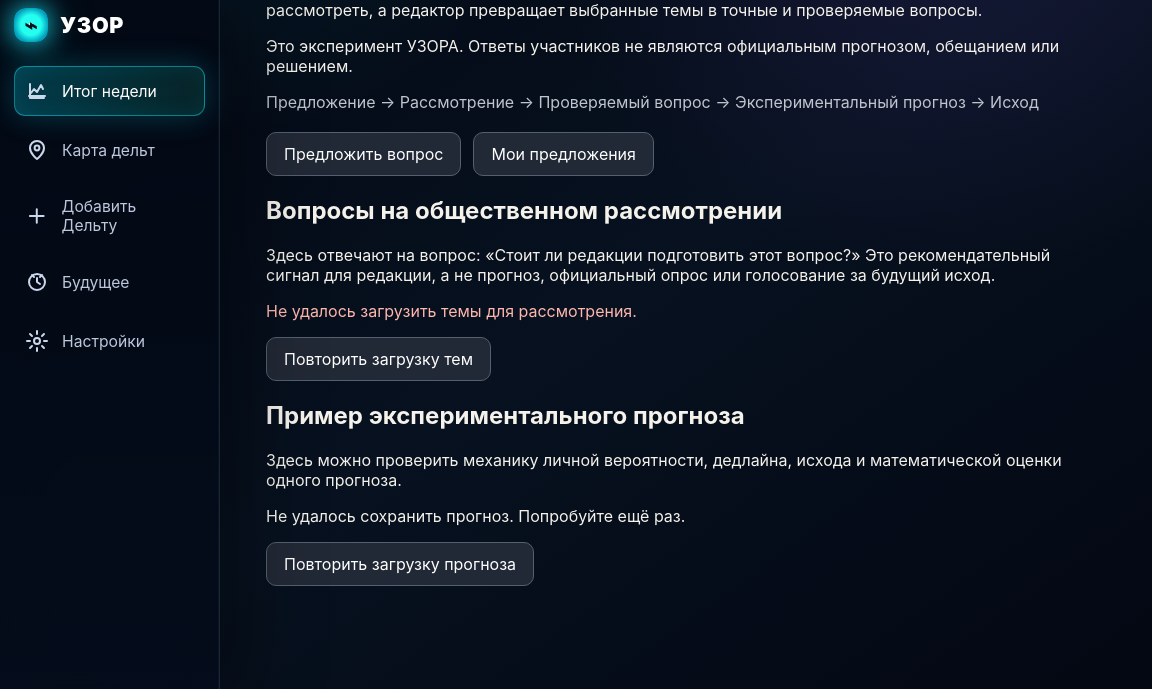
Test: production ForecastPage › shows load failure and retries
The image size is (1152, 689).
(page scrolled)
Expected: the text "Не удалось сохранить прогноз. Попробуйте ещё раз." is shown, [266,506,685,526]
Step 1. Click the button "Повторить загрузку прогноза" → x=400, y=564, box [266,542,534,586]
(page scrolled)
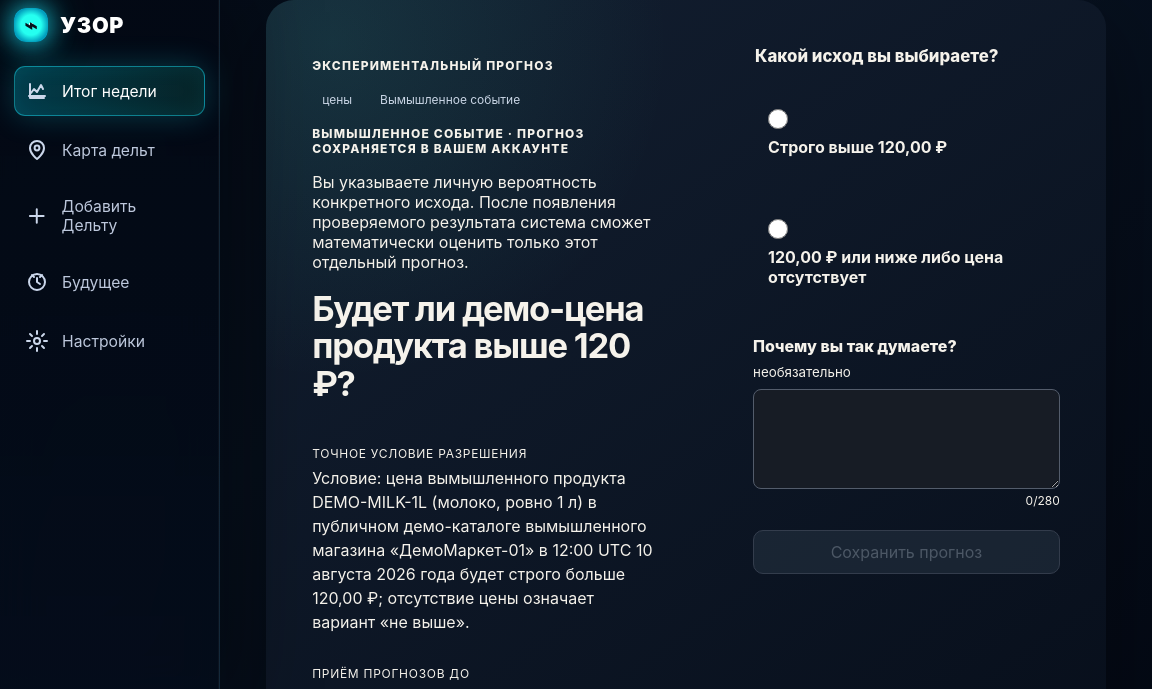
Expected: the heading "Будет ли демо-цена продукта выше 120 ₽?" is shown, [312,290,661,402]
